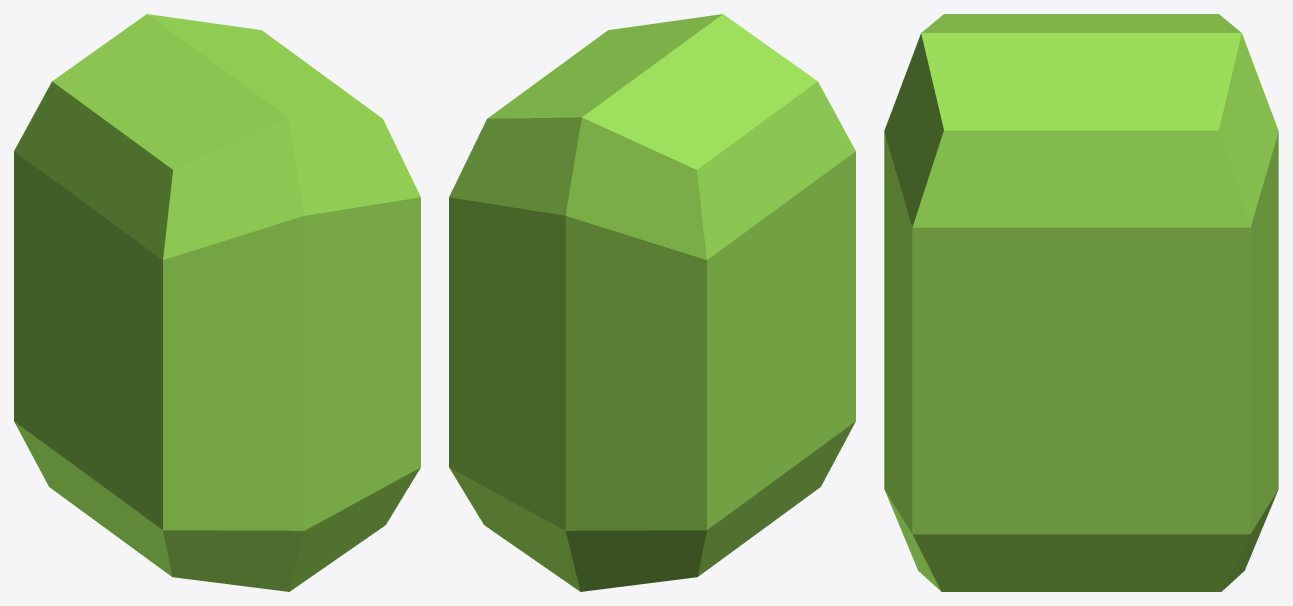
Rendered from gem.glb.
3 renders of one model, left to right at view 1: azimuth 30°, elevation 25°; view 2: azimuth 150°, elevation 25°; view 3: azimuth 270°, elevation 25°, orthographic. The views are drawn at different scales.
Visible parts, largest first — view 1: Cube; view 2: Cube; view 3: Cube.
Boxes of the visible parts, box(x1,y1,x2,y2) form: Cube: box(14, 14, 420, 591); Cube: box(449, 14, 855, 591); Cube: box(884, 14, 1278, 591).
Size of the model in its own units: 21.85 by 38.34 by 25.5.
